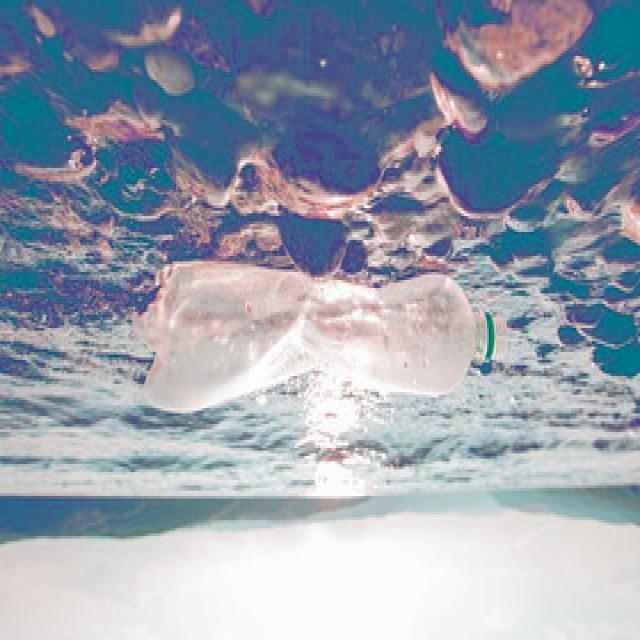Plastic: (133, 252, 510, 418)
